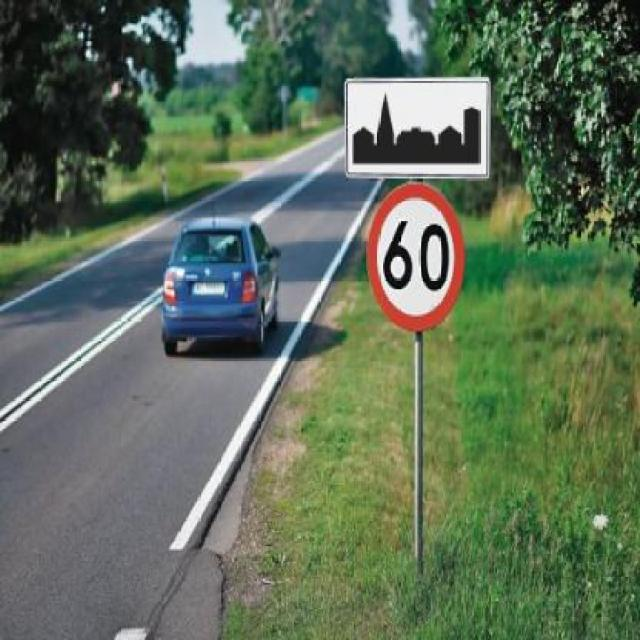Limite-60: (363, 178, 469, 333)
